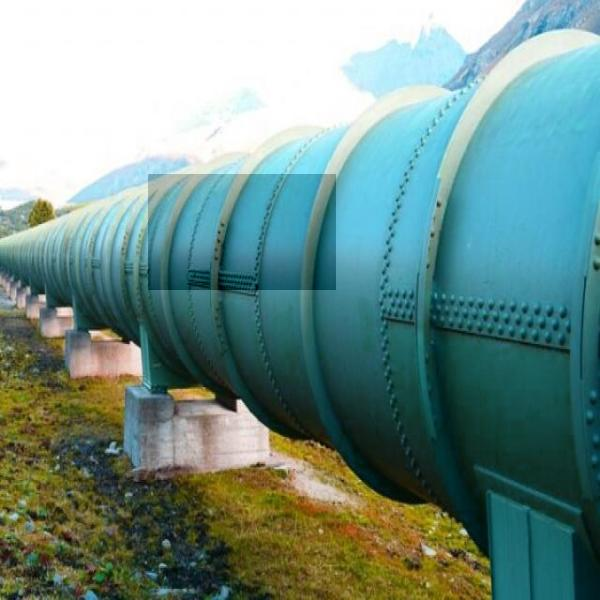no leak: (148, 174, 336, 290)
